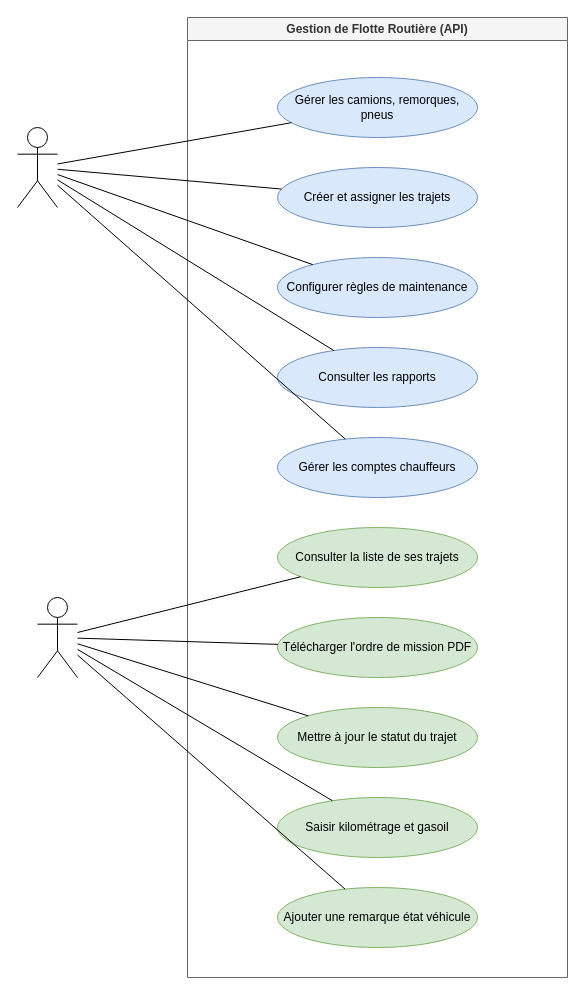
Image size: 585x995. Some labels were removed from this diagram. Here are the shapes that lost their labels. From the top down, the box of each, then its label:
(16, 126, 58, 208): Admin
(36, 596, 78, 678): Chauffeur
